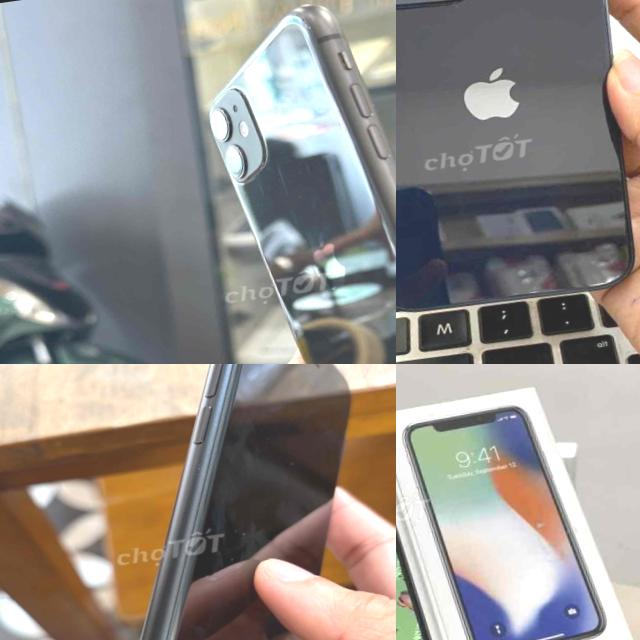scratch: (28, 364, 396, 640)
